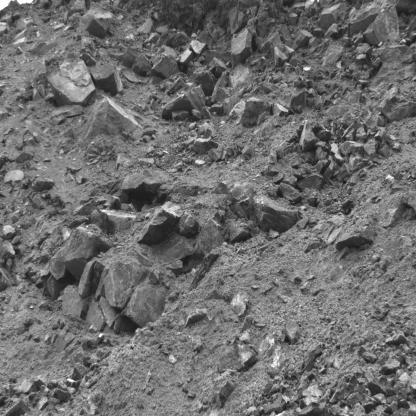stone: (60, 224, 108, 279), (50, 61, 95, 106), (106, 259, 142, 309), (137, 206, 184, 244), (252, 196, 300, 233), (126, 284, 168, 326), (362, 5, 402, 46), (164, 85, 206, 118), (157, 231, 194, 265), (183, 66, 217, 96), (379, 95, 416, 122), (93, 62, 123, 95), (99, 209, 136, 234), (241, 99, 272, 128), (231, 28, 252, 70), (151, 57, 181, 80), (174, 212, 200, 235), (296, 173, 325, 193), (131, 53, 153, 78), (321, 45, 346, 66), (299, 121, 316, 150), (274, 43, 295, 66), (120, 46, 141, 69), (228, 222, 249, 243), (339, 141, 366, 157), (292, 30, 313, 50), (204, 58, 227, 76), (279, 183, 300, 202), (0, 267, 15, 291), (363, 139, 379, 161), (291, 86, 307, 107), (314, 157, 332, 174), (190, 40, 206, 58), (171, 109, 192, 122), (337, 163, 350, 183), (180, 48, 194, 66), (323, 163, 335, 179), (201, 106, 212, 120), (210, 101, 223, 112), (191, 108, 202, 120)
